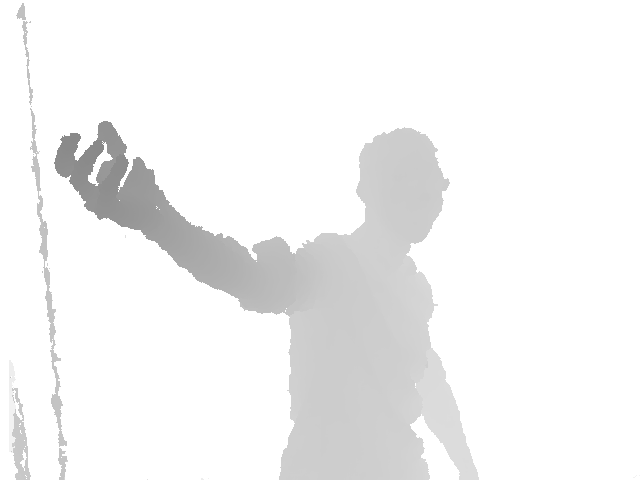hand: (53, 120, 163, 232)
head: (356, 127, 444, 245)
person: (52, 120, 481, 480)
